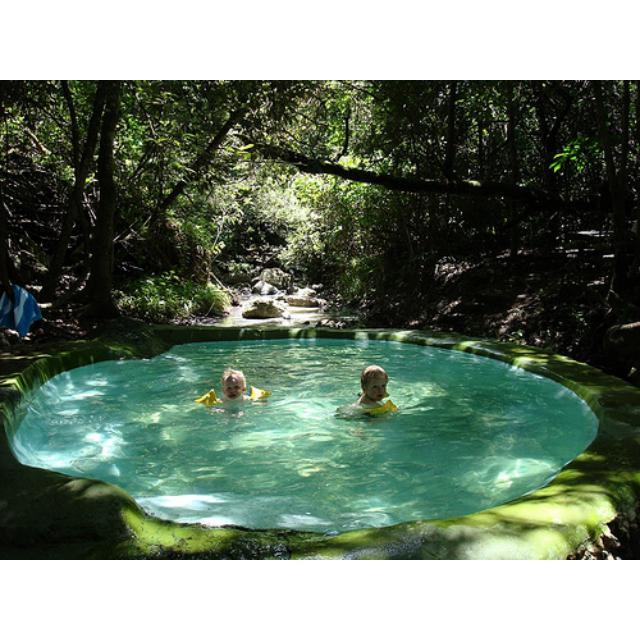human: (341, 366, 385, 418), (220, 365, 249, 403)
